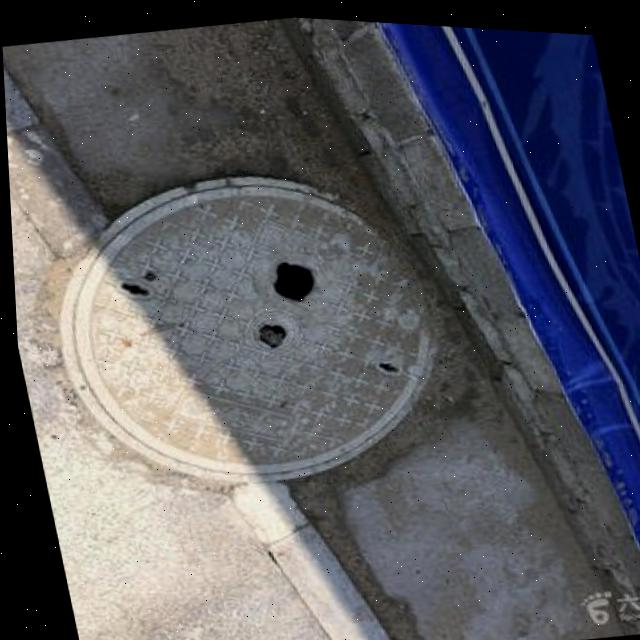manhole: (23, 137, 474, 514)
